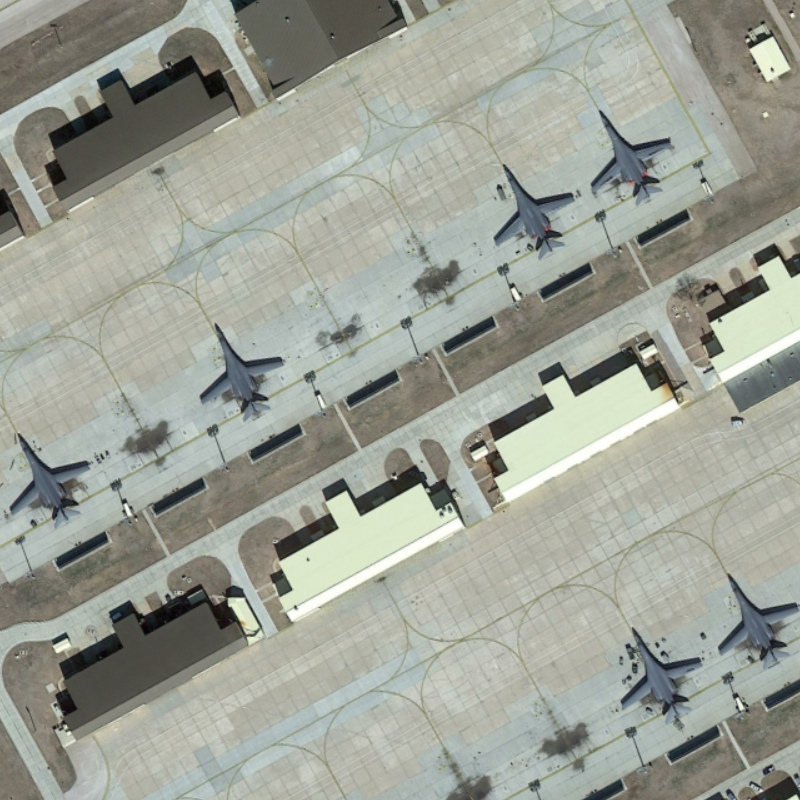A10: (189, 316, 292, 426), (582, 105, 682, 208), (615, 621, 710, 729), (490, 157, 579, 261), (716, 560, 800, 667), (7, 430, 98, 523)
